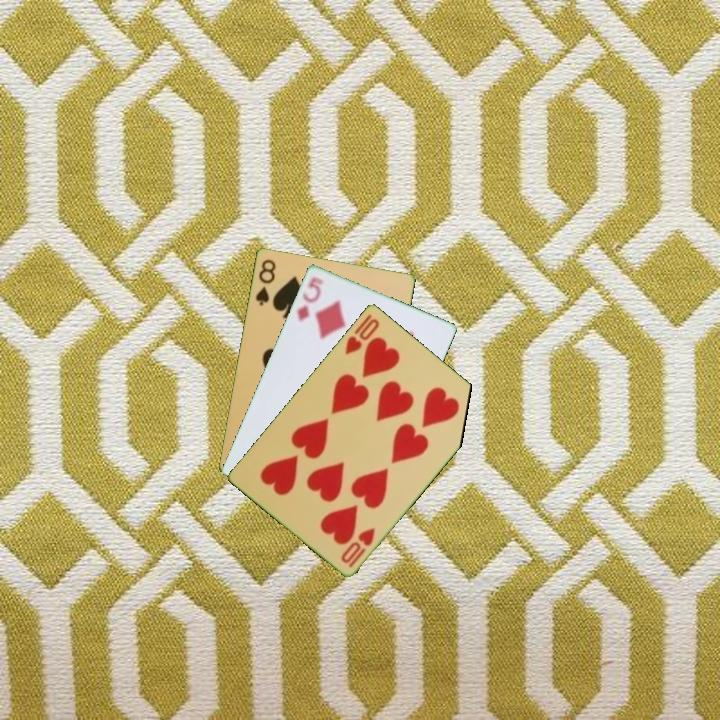10h: (341, 310, 382, 357), (337, 524, 378, 570)
5d: (293, 273, 326, 323)
8s: (252, 255, 278, 308)
